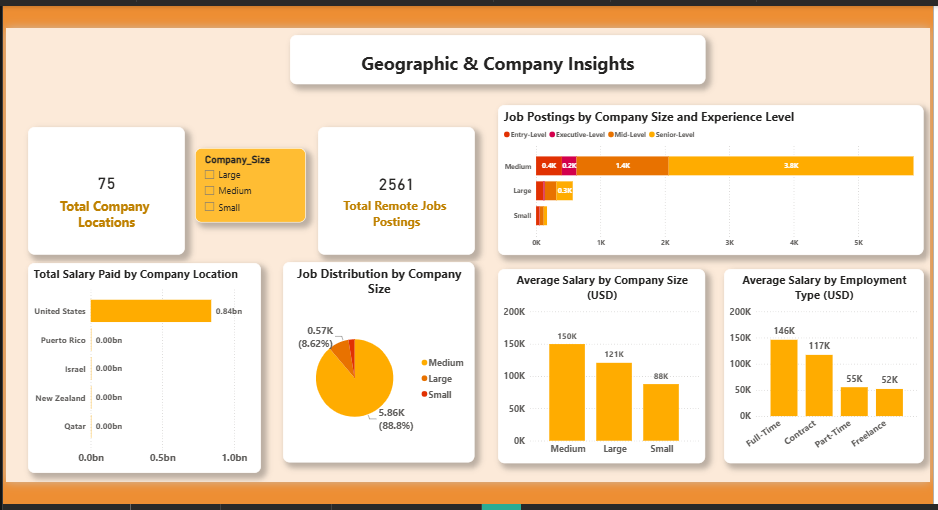

The page's visual inventory and layout, read from the dashboard file:
{"tool":"powerbi","page":{"name":"Geographic Insights","canvas":[1650,810],"ordinal":2},"visuals":[{"type":"clusteredColumnChart","fields":{"Category":["data_science_salaries.Company_Size"],"Y":["Avg(data_science_salaries.Salary_In_Usd)"]},"box":[878.3,430,370,346.7],"z":0},{"type":"card","fields":{"Values":["Count(data_science_salaries.Company_Location)"]},"box":[40,176.7,280,228.3],"z":1},{"type":"clusteredBarChart","fields":{"Category":["data_science_salaries.Company_Location"],"Y":["Sum(data_science_salaries.Salary_In_Usd)"]},"box":[40,418.3,415,358.3],"z":2},{"type":"card","fields":{"Values":["CountNonNull(data_science_salaries.Salary_In_Usd)"]},"box":[556.7,176.7,280,228.3],"z":4},{"type":"slicer","fields":{"Values":["data_science_salaries.Company_Size"]},"box":[336.7,215,198.3,133.3],"z":5},{"type":"pieChart","fields":{"Category":["data_science_salaries.Company_Size"],"Y":["CountNonNull(data_science_salaries.Salary_In_Usd)"]},"box":[495,418.3,341.7,358.3],"z":7},{"type":"barChart","fields":{"Category":["data_science_salaries.Company_Size"],"Y":["CountNonNull(data_science_salaries.Salary_In_Usd)"],"Series":["data_science_salaries.Experience_Level"]},"box":[878.3,136.7,760,268.3],"z":8},{"type":"textbox","box":[506.7,13.3,741.7,88.3],"z":9},{"type":"clusteredColumnChart","fields":{"Category":["data_science_salaries.Employment_Type"],"Y":["Avg(data_science_salaries.Salary_In_Usd)"]},"box":[1281.7,430,356.7,346.7],"z":10}]}

Visuals, with their boxes on the page's 1650x810 design canvas (x1, y1, x2, y2). These are canvas units, not pixel positions in the 938x510 screenshot, which may show the page scaled, cropped or inside an application window:
clusteredColumnChart - data_science_salaries.Company_Size x Avg(data_science_salaries.Salary_In_Usd): 878/430/1248/777
card - Count(data_science_salaries.Company_Location): 40/177/320/405
clusteredBarChart - data_science_salaries.Company_Location x Sum(data_science_salaries.Salary_In_Usd): 40/418/455/777
card - CountNonNull(data_science_salaries.Salary_In_Usd): 557/177/837/405
slicer - data_science_salaries.Company_Size: 337/215/535/348
pieChart - data_science_salaries.Company_Size x CountNonNull(data_science_salaries.Salary_In_Usd): 495/418/837/777
barChart - data_science_salaries.Company_Size x CountNonNull(data_science_salaries.Salary_In_Usd): 878/137/1638/405
textbox: 507/13/1248/102
clusteredColumnChart - data_science_salaries.Employment_Type x Avg(data_science_salaries.Salary_In_Usd): 1282/430/1638/777
